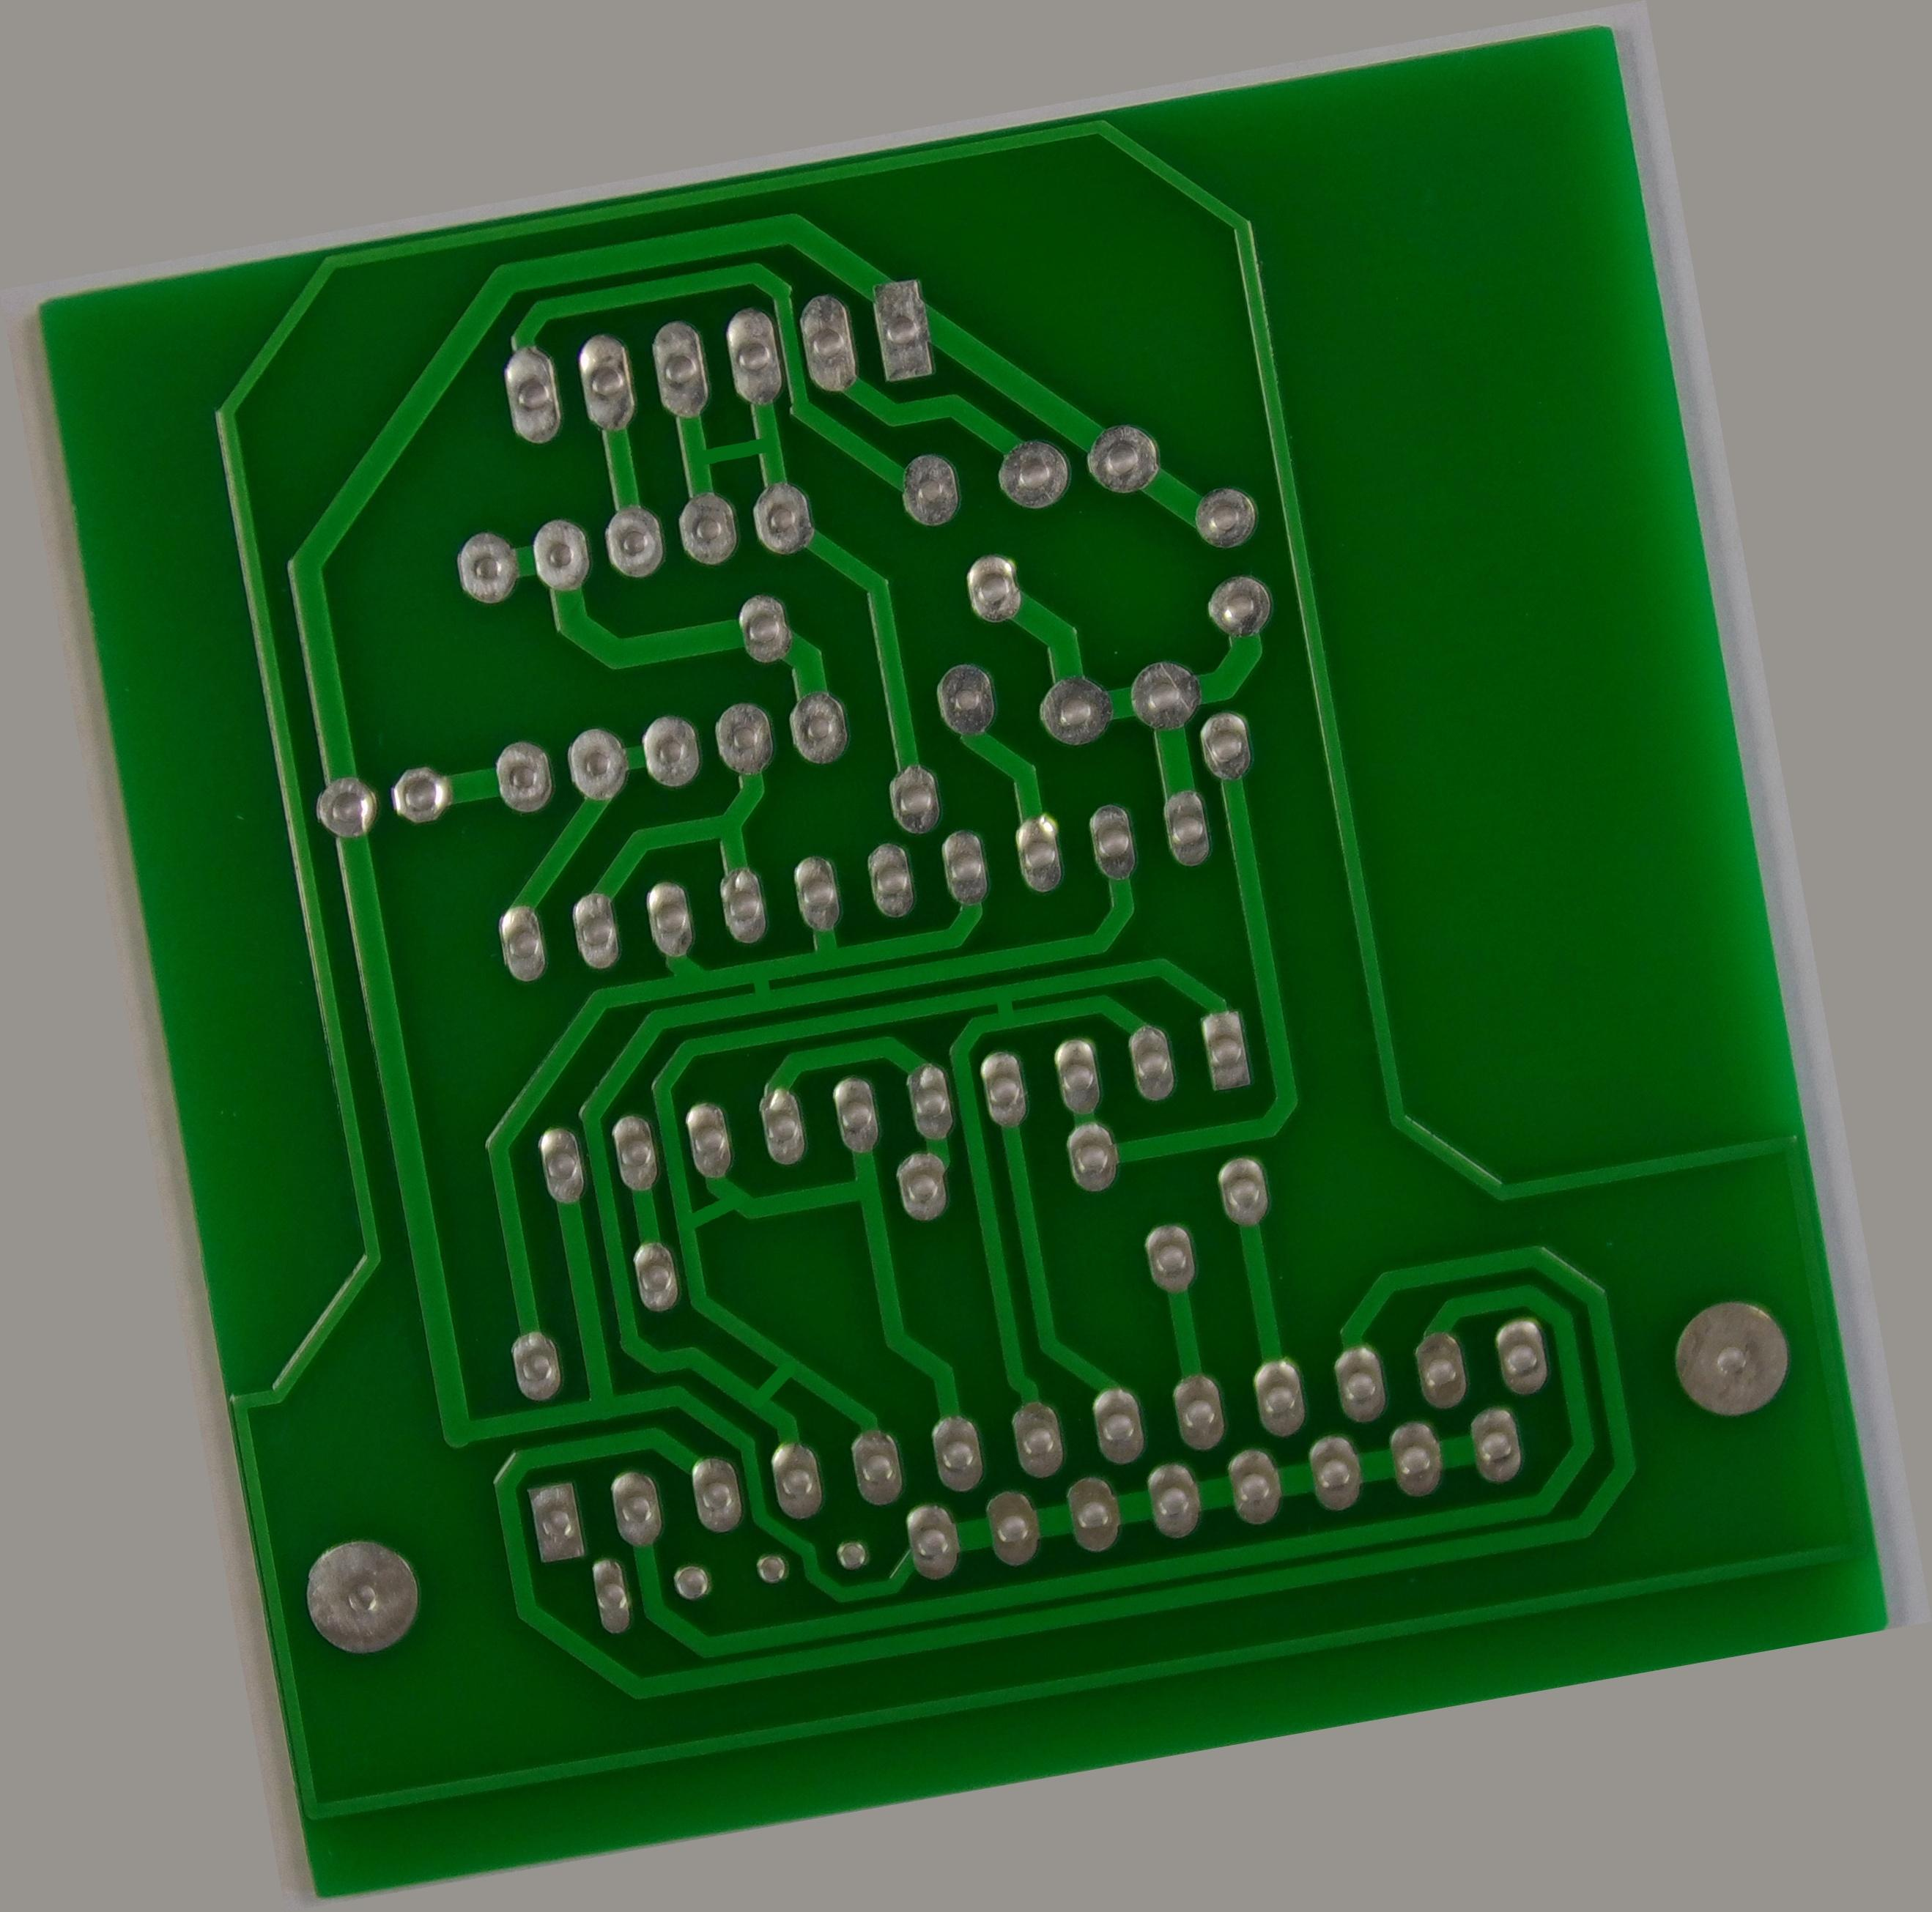short: (722, 301, 872, 359), (604, 1366, 715, 1445), (571, 1166, 678, 1229), (701, 909, 751, 988), (969, 991, 1025, 1058)
